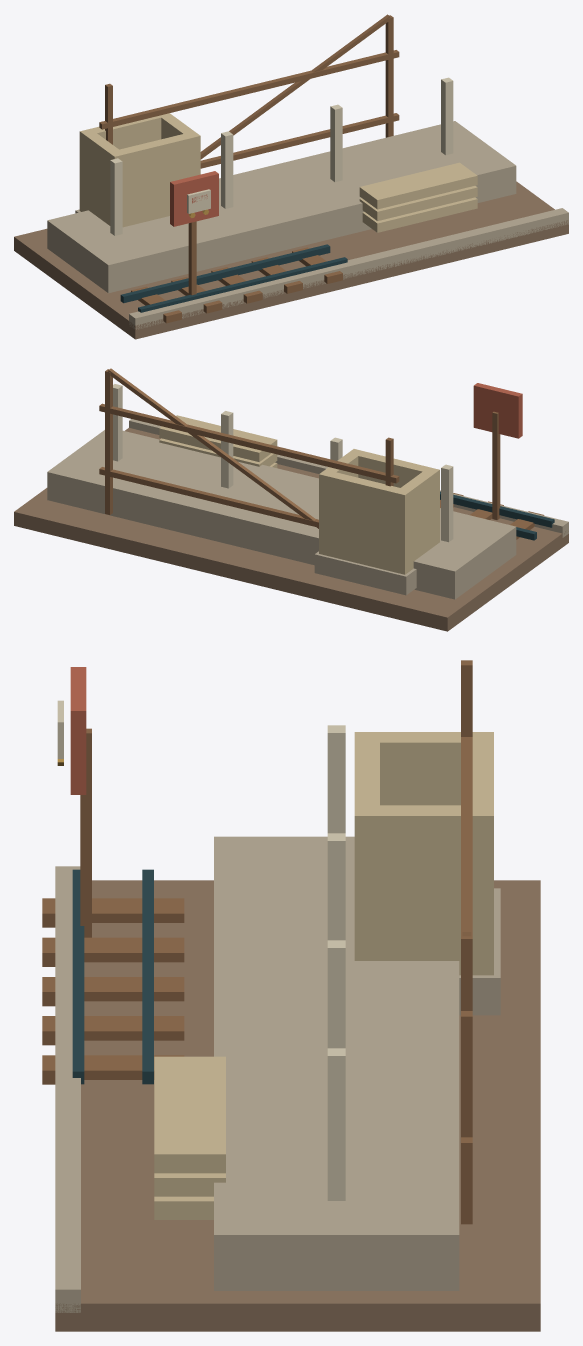
File: train-station-half-built.glb
3 renders of one model, top to bottom at view 1: azimuth 30°, elevation 25°; view 2: azimuth 150°, elevation 25°; view 3: azimuth 270°, elevation 25°, orthographic. The views are drawn at different scales.
Visible parts, largest first — view 1: train-station; view 2: train-station; view 3: train-station.
Boxes of the visible parts, x1=… form: train-station: x1=14, y1=14, x2=568, y2=339; train-station: x1=14, y1=368, x2=568, y2=631; train-station: x1=42, y1=660, x2=540, y2=1331.
Bounding box in the file's own units: 3.88 × 1.39 × 1.93.
